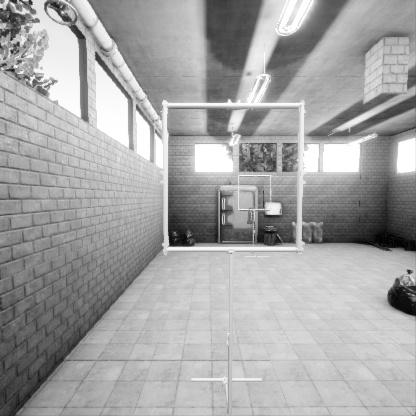gate: (165, 171, 311, 315), (238, 206, 273, 242)
